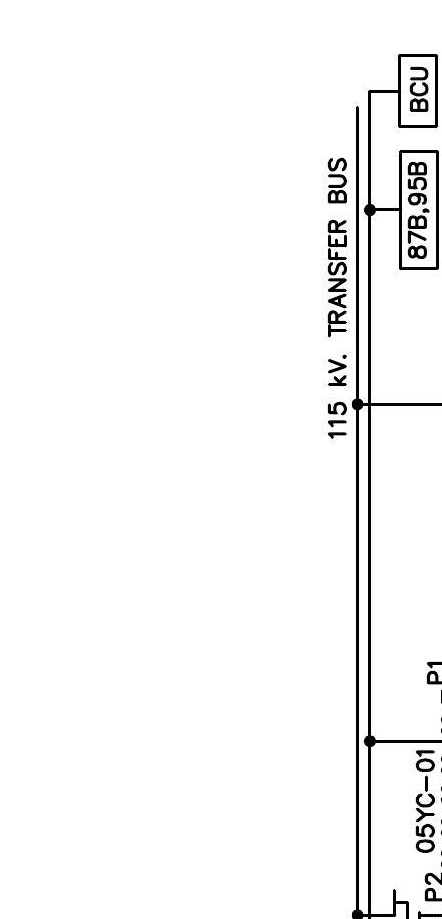BCU: (397, 53, 439, 129)
